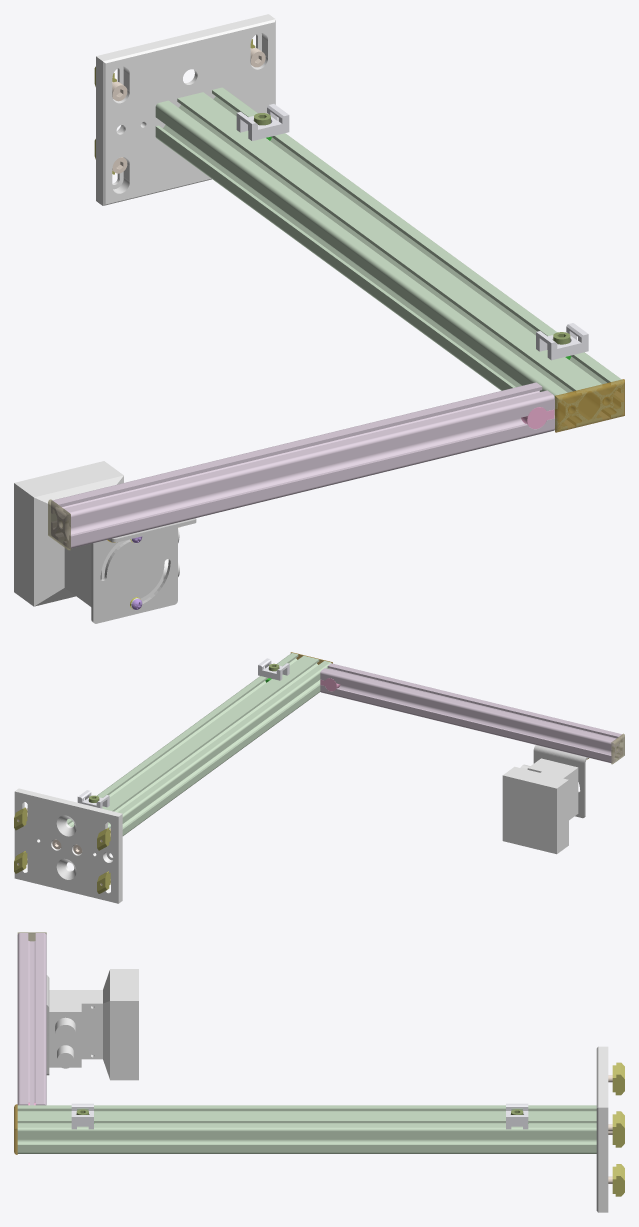
Rendered from ViewFlexQCCognexCamera.fbx.
The picture shows the model from 3 angles, top to bottom: view 1: azimuth 30°, elevation 25°; view 2: azimuth 150°, elevation 25°; view 3: azimuth 270°, elevation 25°; orthographic projection. The views are drawn at different scales.
Visible parts, largest first — view 1: 422013; view 2: 422013; view 3: 422013.
Boxes of the visible parts, x1,y1,x2,y2 form: 422013: (14,14,624,623); 422013: (14,652,624,903); 422013: (14,932,624,1212).
Size of the model in its own units: 353 by 111 by 422.
